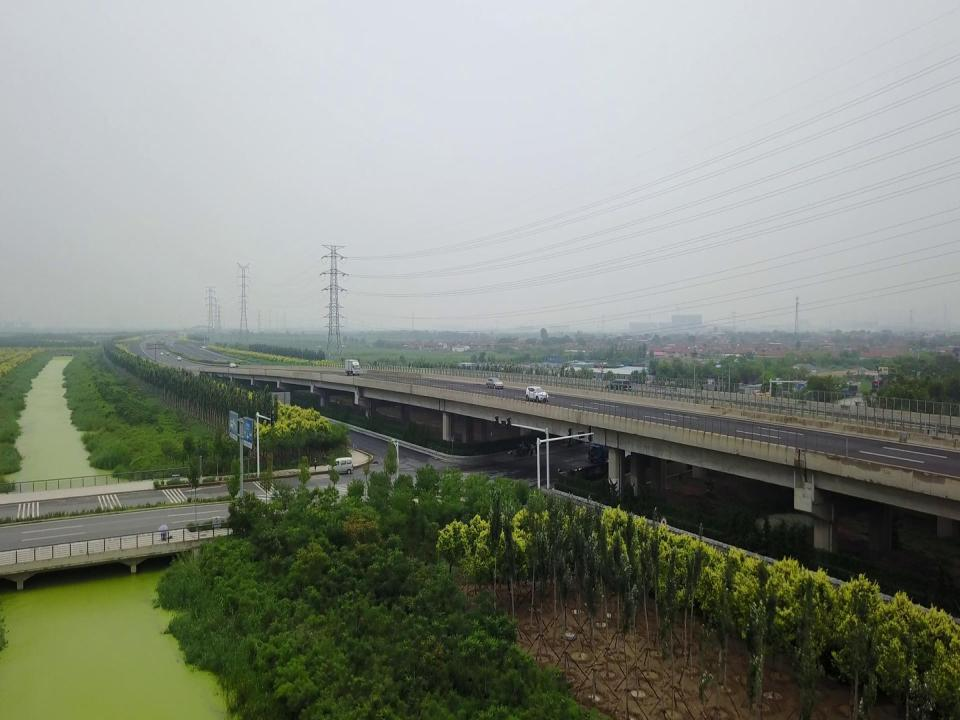car: (526, 386, 548, 403), (605, 379, 631, 390), (486, 377, 504, 390), (229, 363, 236, 368)
truck: (588, 439, 628, 463), (344, 359, 360, 376)
van: (329, 457, 353, 475)
